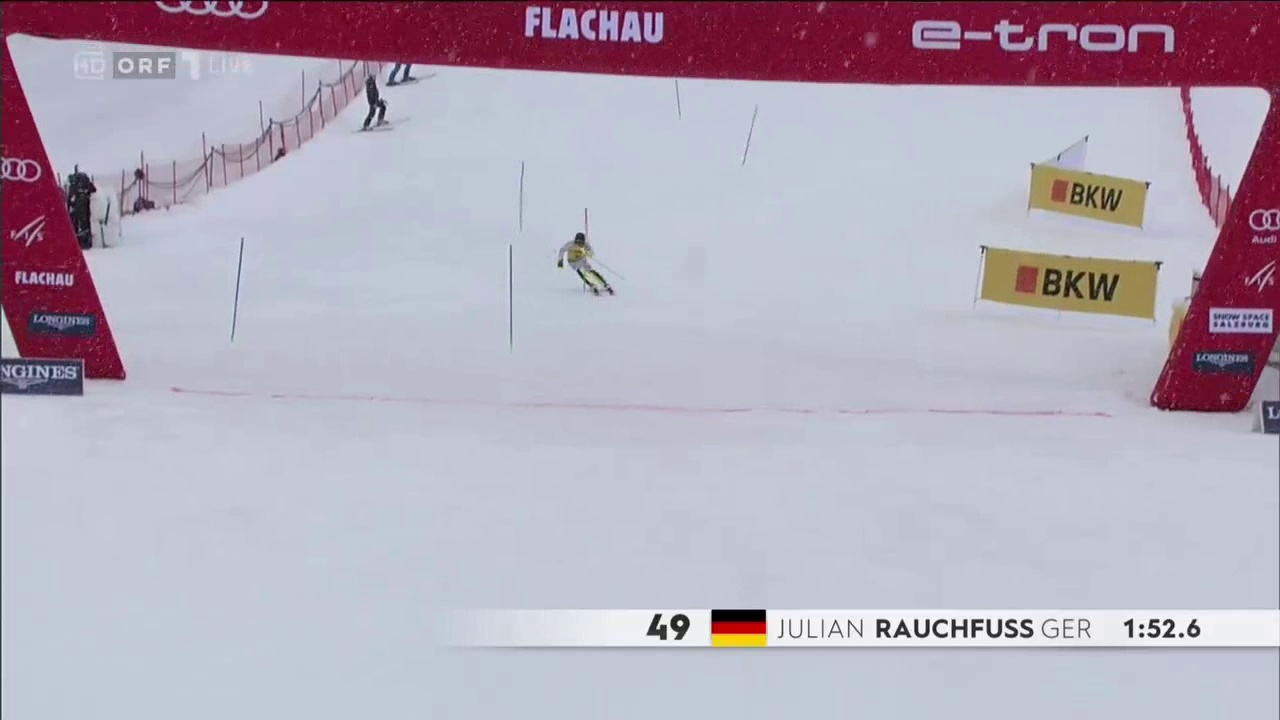audi: (157, 1, 272, 25), (1, 152, 46, 189), (1247, 204, 1279, 249)
etron: (894, 13, 1188, 70)
flachau: (523, 1, 663, 54)
longines: (1260, 405, 1279, 439)
